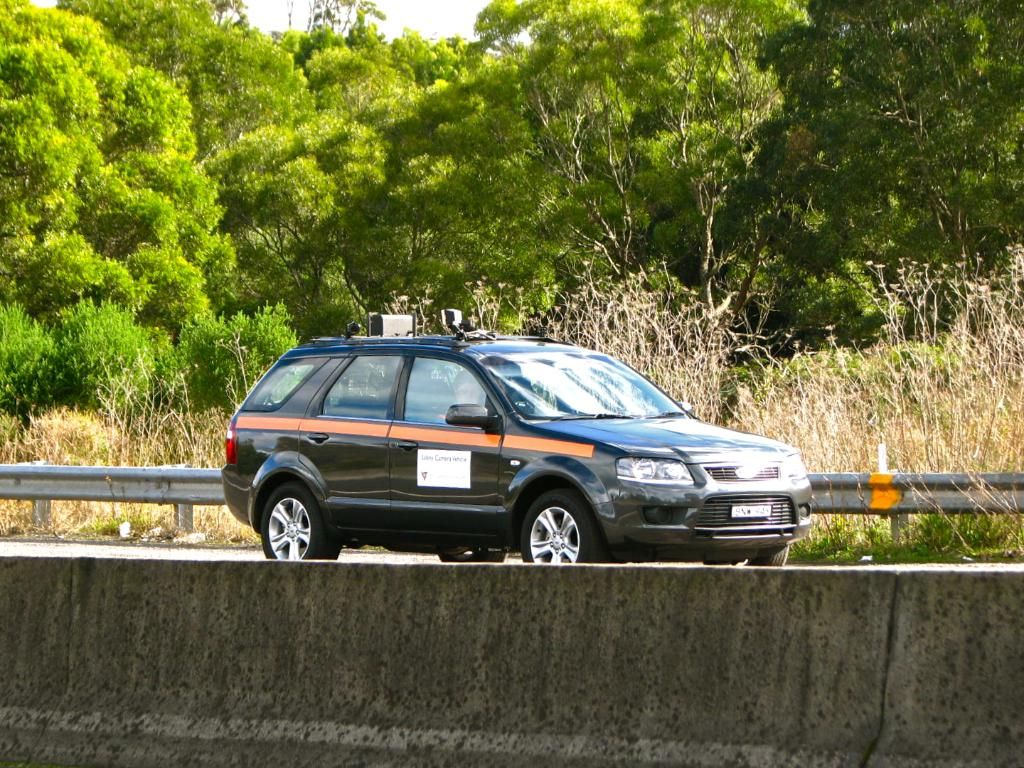Car: (216, 299, 819, 569)
